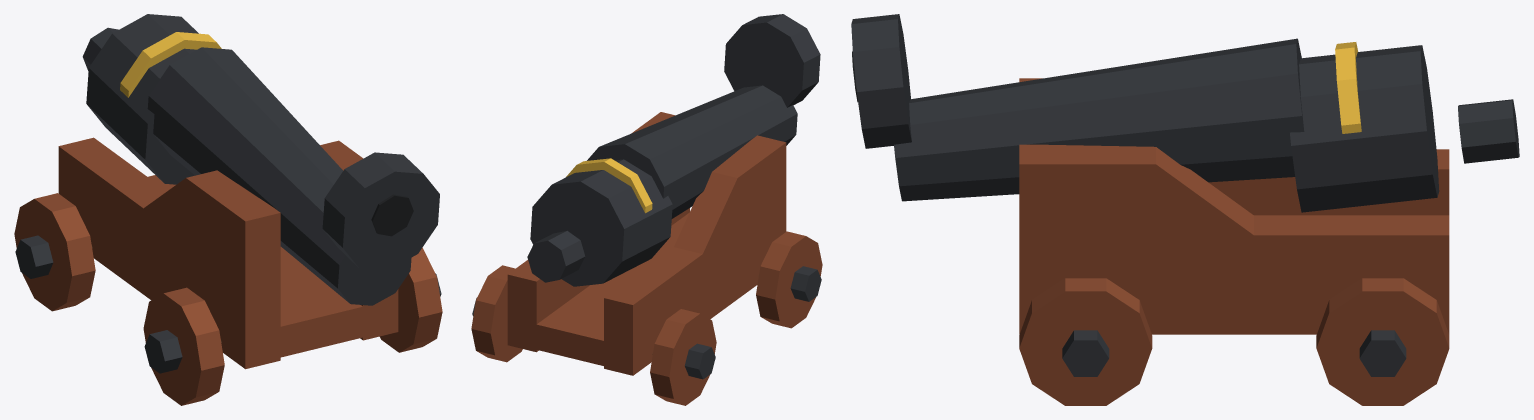
Rendered from Cannon.glb.
The picture shows the model from 3 angles, left to right: view 1: azimuth 30°, elevation 25°; view 2: azimuth 150°, elevation 25°; view 3: azimuth 270°, elevation 25°; orthographic projection. The views are drawn at different scales.
Visible parts, largest first — view 1: Cannon; view 2: Cannon; view 3: Cannon.
Part boxes in pixels (<box>): Cannon: <box>14,14,442,405</box>; Cannon: <box>471,14,822,405</box>; Cannon: <box>851,14,1519,405</box>.
Size of the model in its own units: 0.94 by 0.9005 by 1.71.
Materials: 1 (1 with a texture image).
